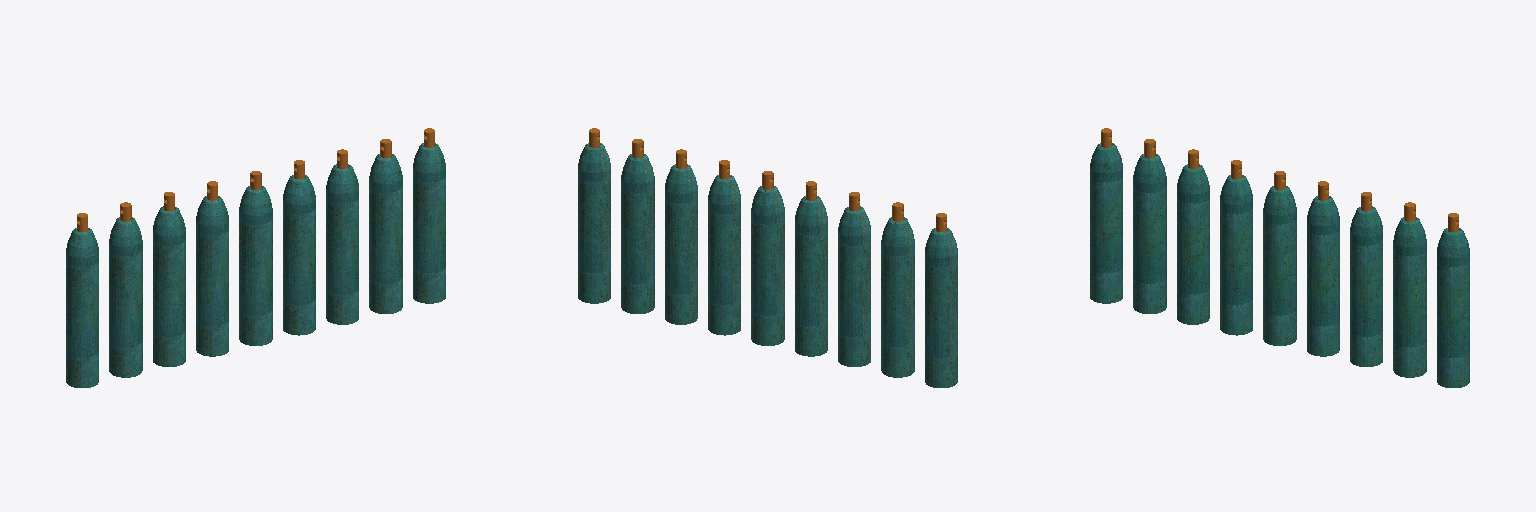
3 views of the same model, side by side, from view 1: azimuth 30°, elevation 25°; view 2: azimuth 150°, elevation 25°; view 3: azimuth 330°, elevation 25° (orthographic).
Visible parts, largest first — view 1: tanqueOxigeno.001; view 2: tanqueOxigeno.001; view 3: tanqueOxigeno.001.
Part boxes in pixels (left/top/right/bottom): tanqueOxigeno.001: left=66, top=128, right=445, bottom=387; tanqueOxigeno.001: left=578, top=128, right=957, bottom=387; tanqueOxigeno.001: left=1090, top=128, right=1469, bottom=387.
Size of the model in its own units: 22.75 by 9.61 by 1.75.
Materials: 3 (2 with a texture image).